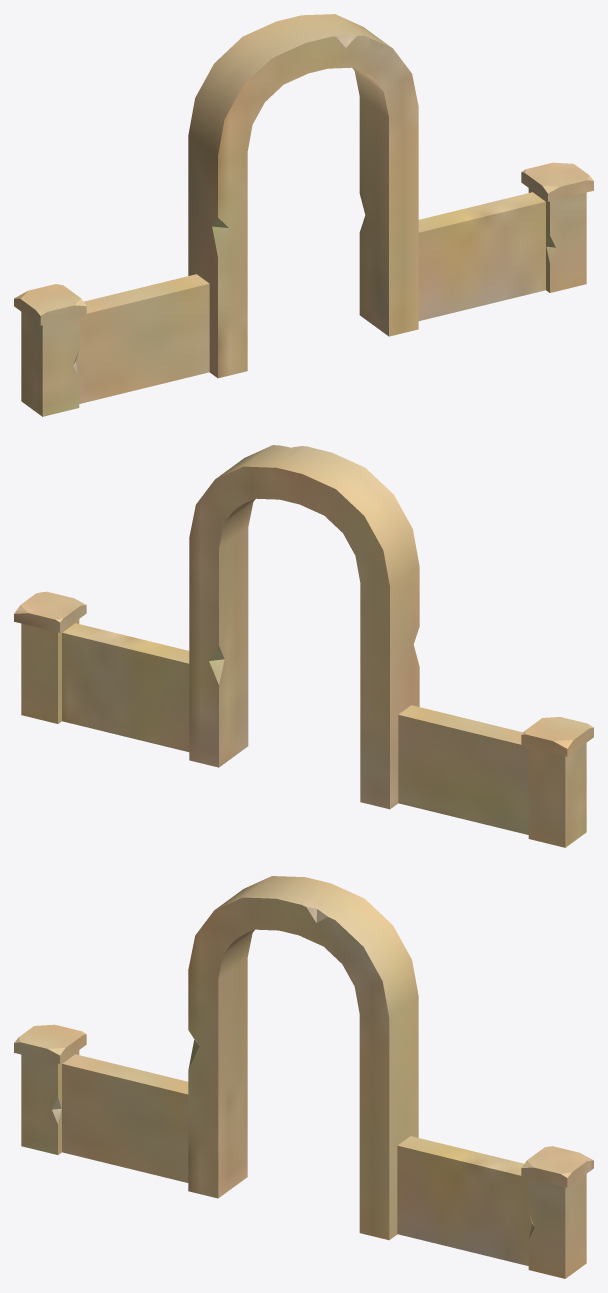
The model's file is mega-pack-cube-218.glb.
3 renders of one model, top to bottom at view 1: azimuth 30°, elevation 25°; view 2: azimuth 150°, elevation 25°; view 3: azimuth 330°, elevation 25°, orthographic.
Parts seen in each view (by area): view 1: Cube.218; view 2: Cube.218; view 3: Cube.218.
Boxes of the visible parts, box(x1,y1,x2,y2) form: Cube.218: box(14, 14, 593, 416); Cube.218: box(14, 445, 593, 847); Cube.218: box(14, 876, 593, 1278).
Bounding box in the file's own units: 3.59 × 1.94 × 0.3301.
1 material, 1 textured.
